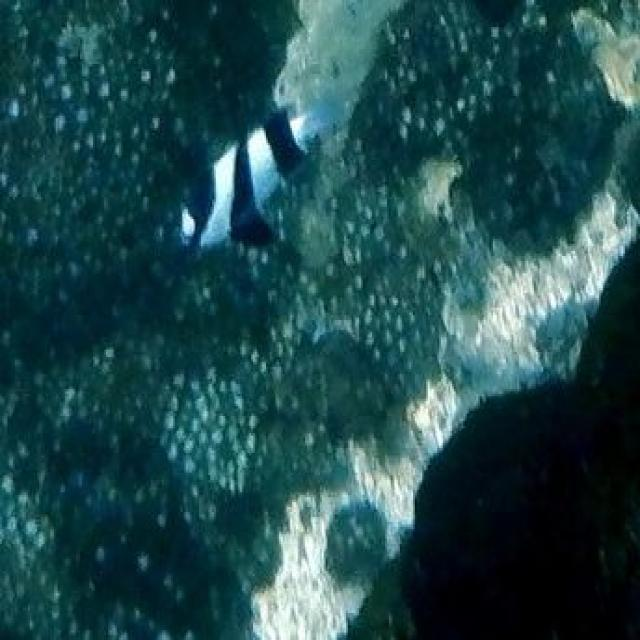Three_striped DasmselFish: (178, 101, 308, 256)
